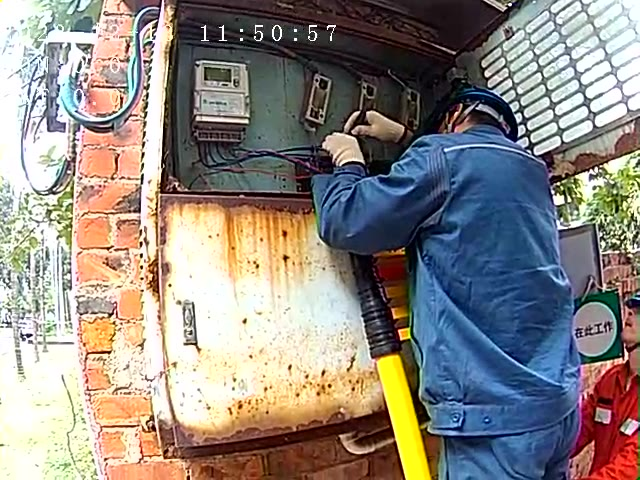halt: (432, 88, 522, 144)
inear: (438, 103, 480, 134)
